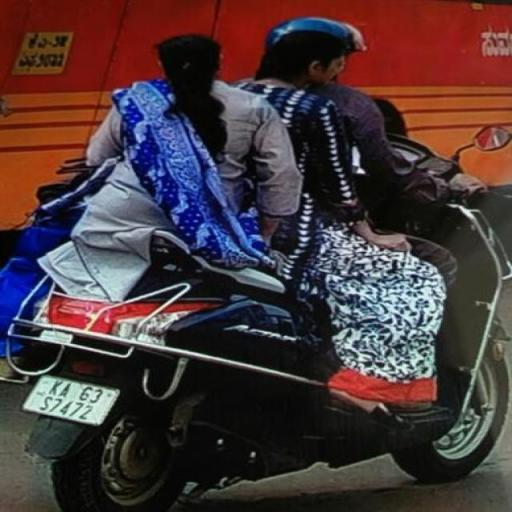tripple riding: (10, 12, 488, 285)
